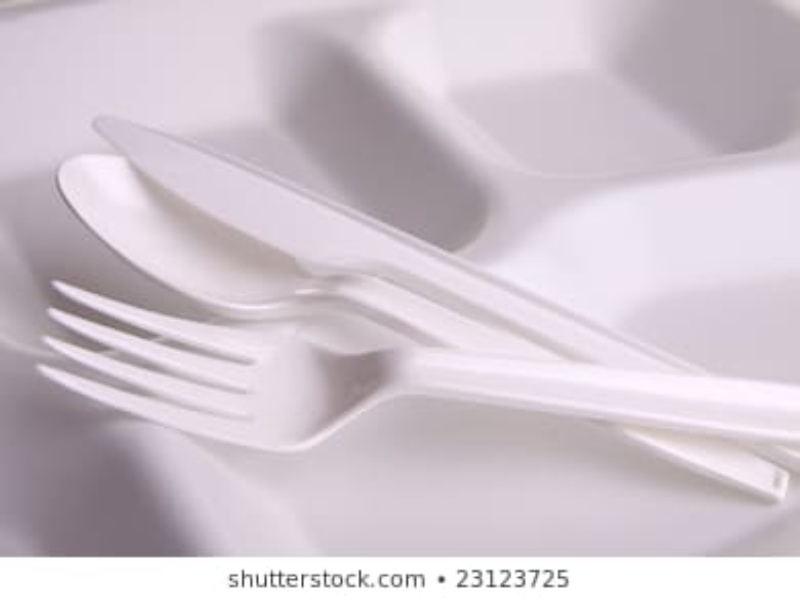plastic-silverware: (54, 141, 791, 505), (87, 108, 737, 379), (33, 276, 800, 452)
